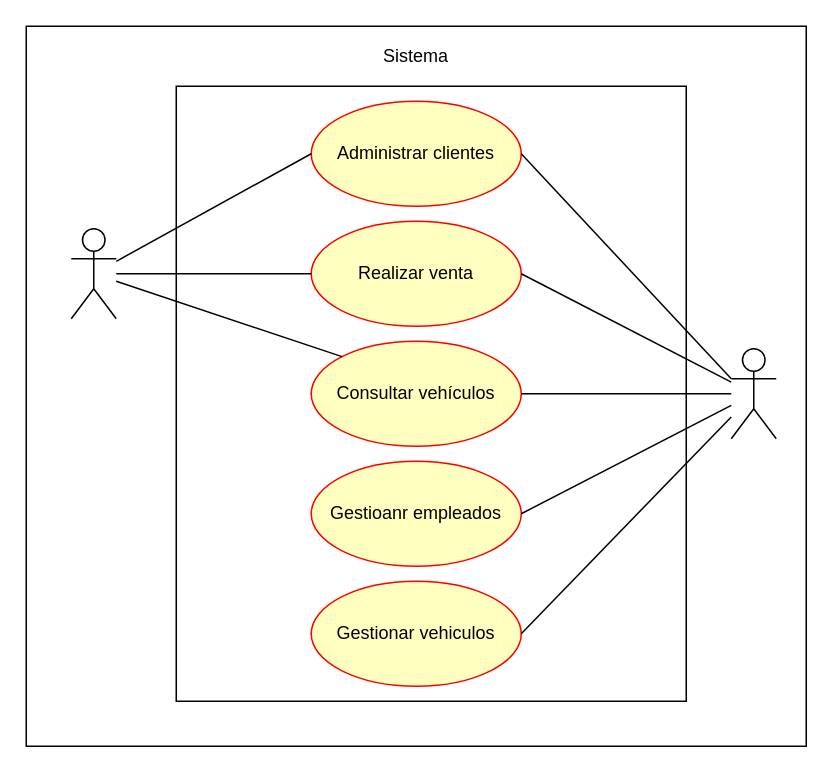
Some shapes in this 833 by 773 pixel diagram are drawn without their labels. Each missing label, with the box of its shape:
Empleado: (70, 227, 116, 319)
Gerente: (730, 347, 776, 439)
